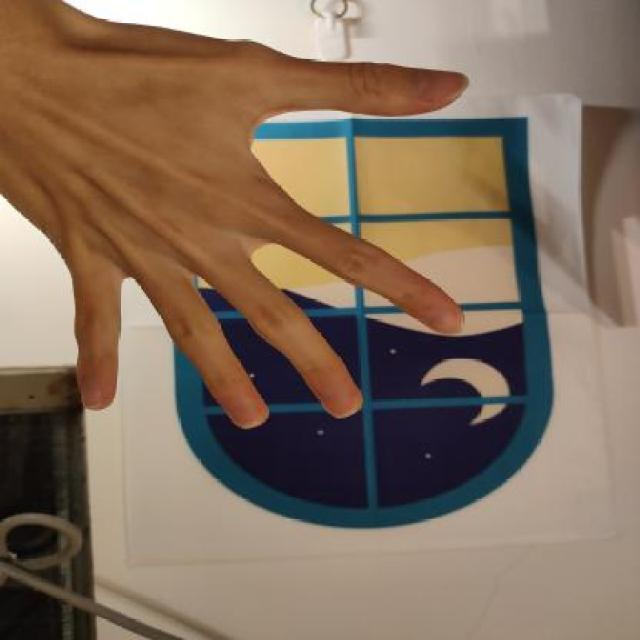bare_hand: (0, 1, 491, 442)
